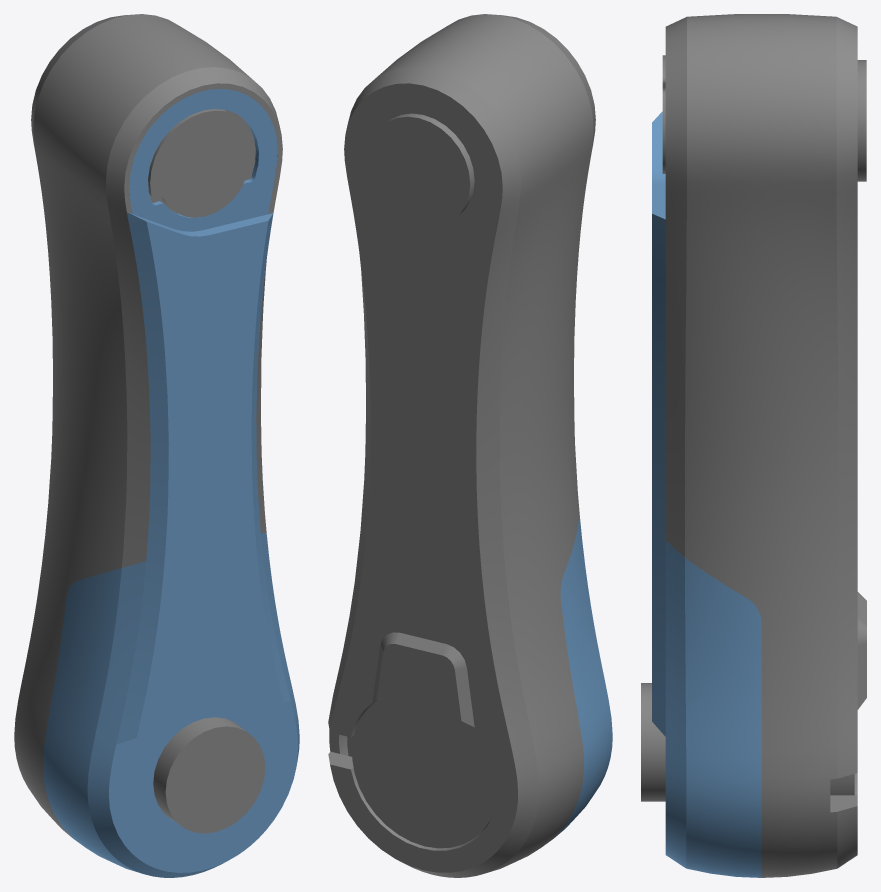
File: thigh_r.dae
3 renders of one model, left to right at view 1: azimuth 30°, elevation 25°; view 2: azimuth 150°, elevation 25°; view 3: azimuth 270°, elevation 25°, orthographic. The views are drawn at different scales.
Visible parts, largest first — view 1: thigh_r; view 2: thigh_r; view 3: thigh_r.
Part boxes in pixels (x1,y1,x2,y2): thigh_r: (14,14,299,877); thigh_r: (328,14,612,877); thigh_r: (641,14,866,877).
Size of the model in its own units: 0.0892 by 0.0741 by 0.3044.
